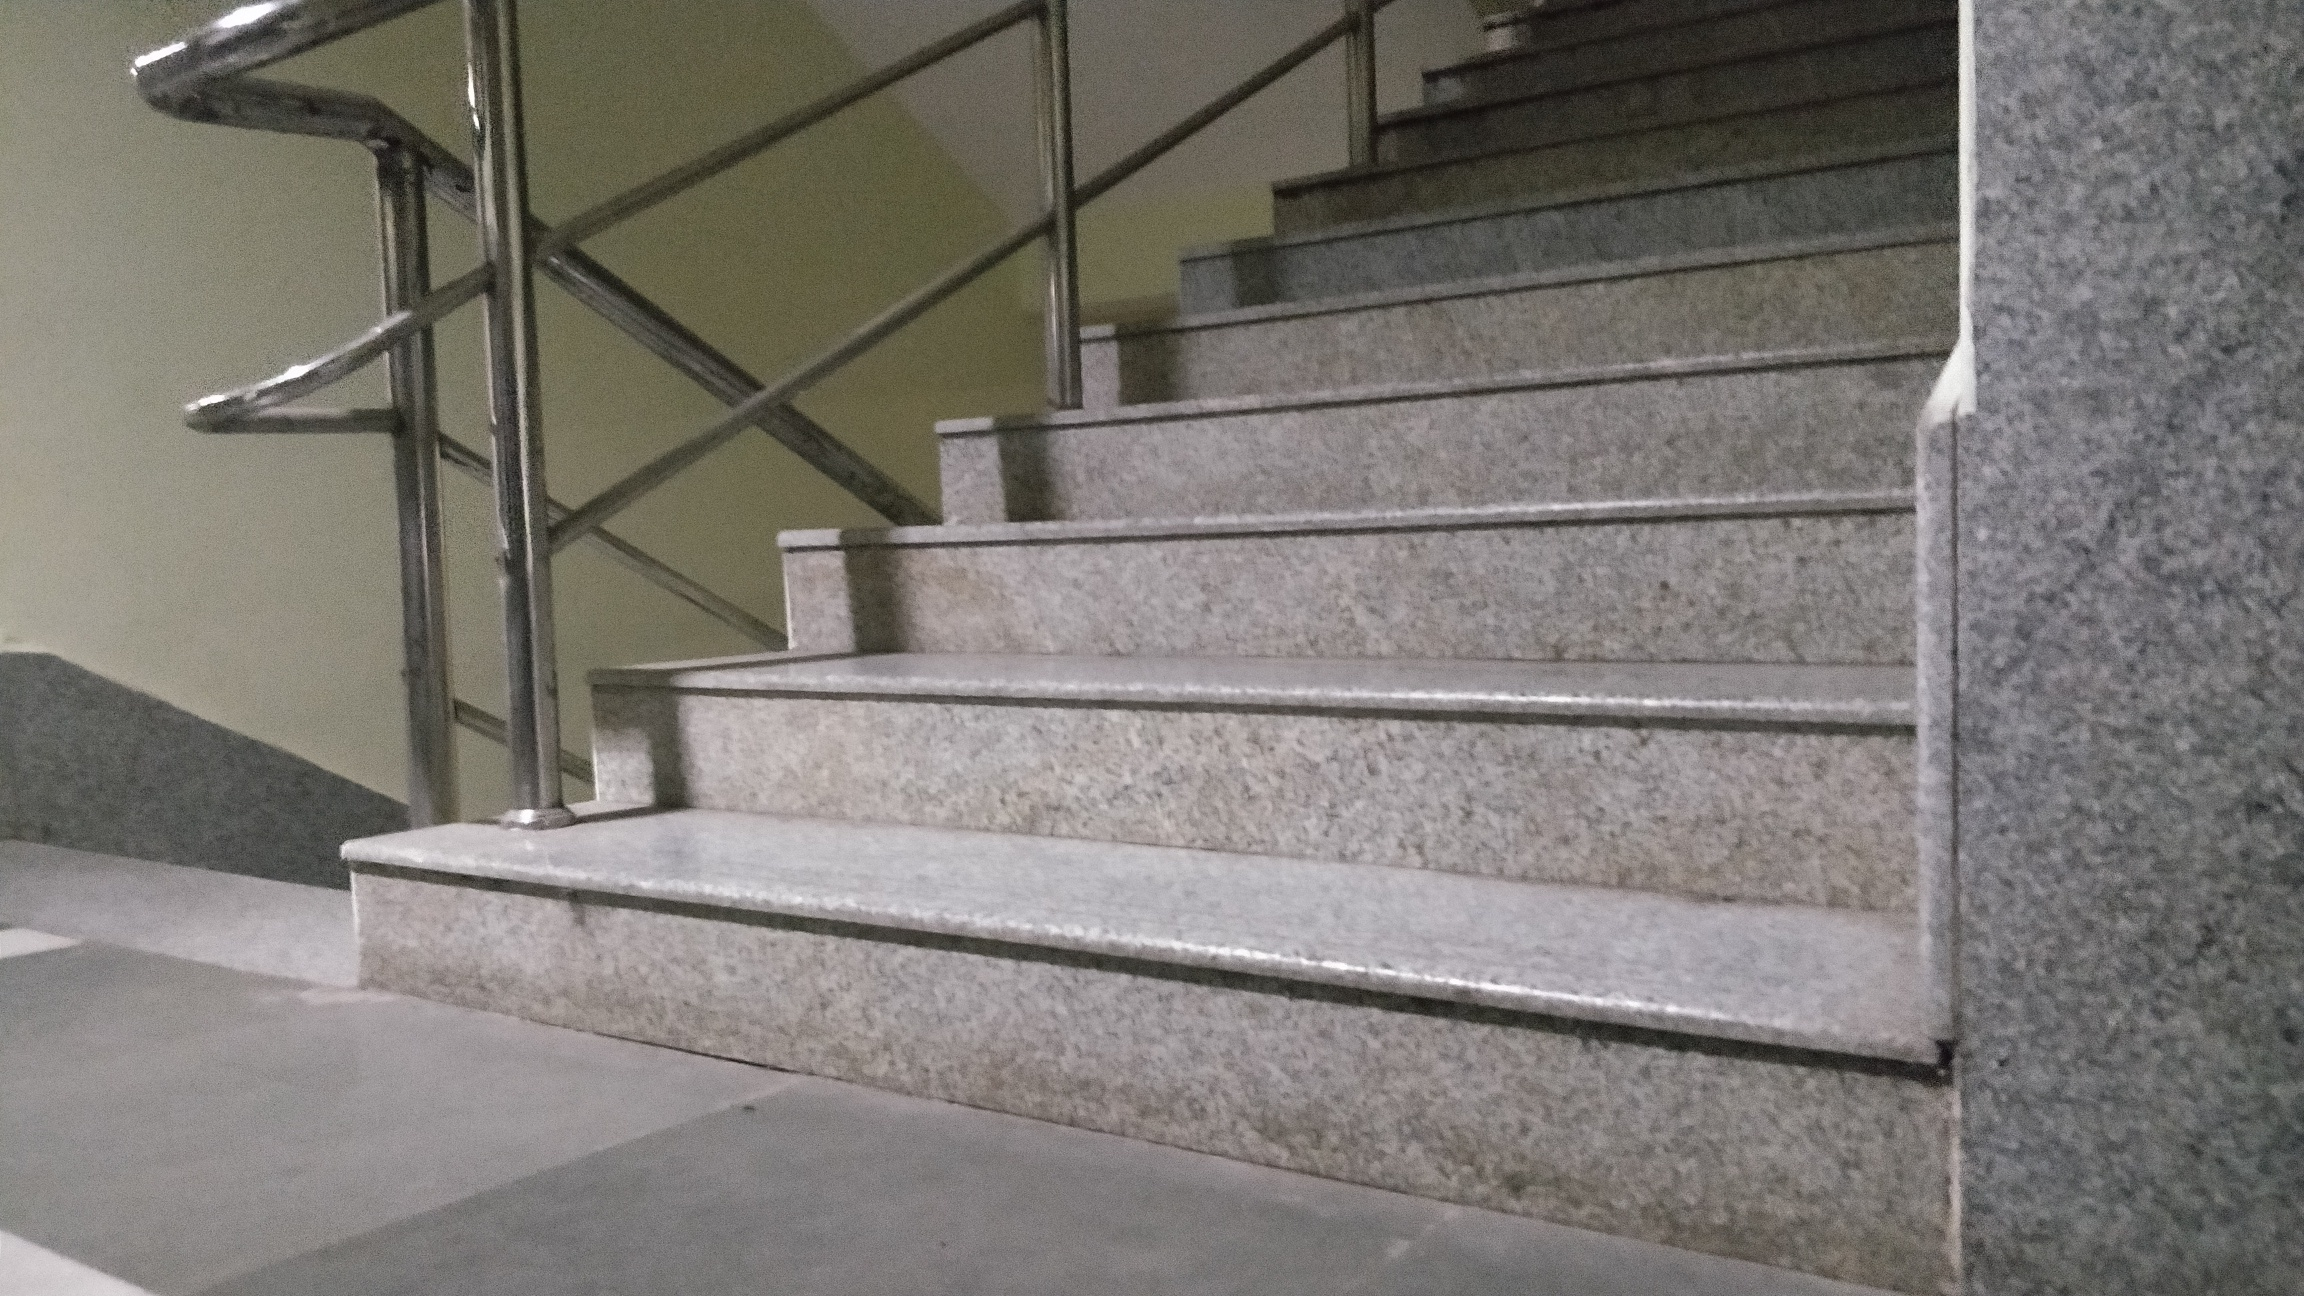stairs_up: (324, 9, 1950, 1282)
